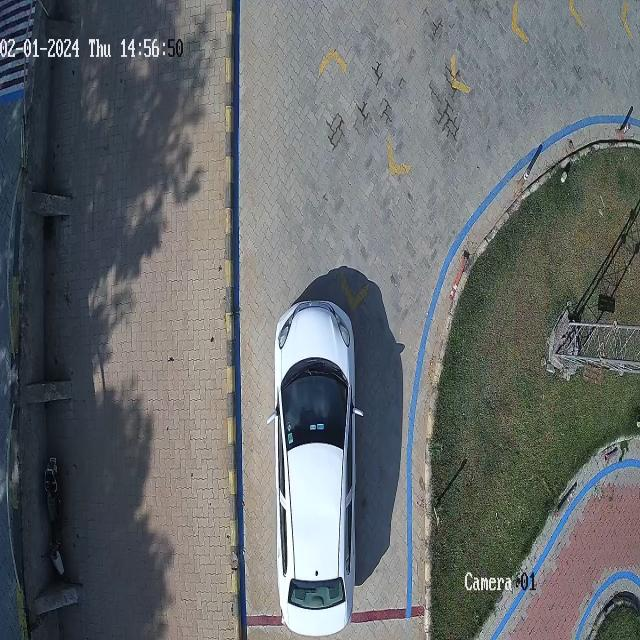car: (275, 299, 359, 637)
